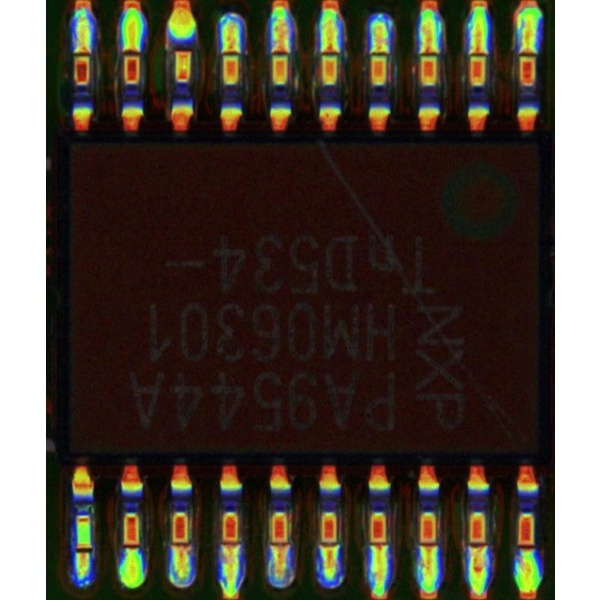Bad_podu: (519, 32, 534, 70), (322, 31, 335, 74), (321, 526, 334, 568), (273, 32, 286, 74), (371, 528, 384, 568), (420, 526, 432, 568), (224, 34, 238, 70), (75, 531, 89, 566), (272, 528, 286, 563), (223, 531, 236, 567), (471, 35, 483, 72), (422, 34, 433, 73), (173, 530, 184, 567), (373, 35, 384, 72), (76, 35, 88, 68), (124, 37, 136, 68)
